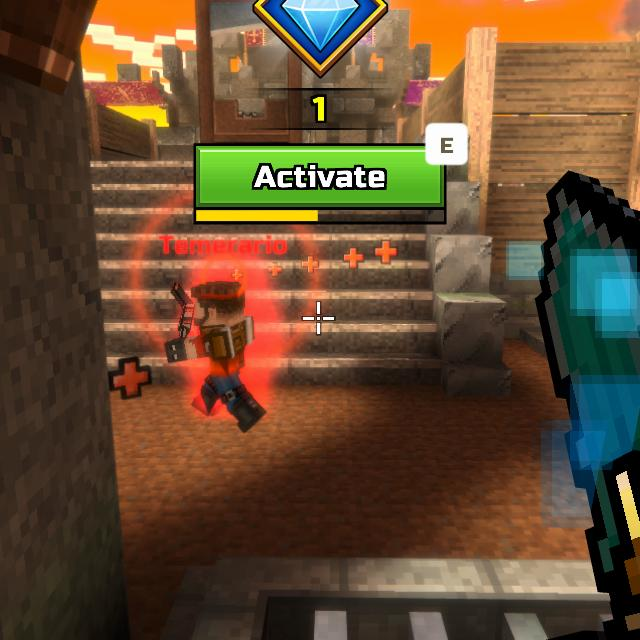Enemy: (166, 280, 265, 433)
